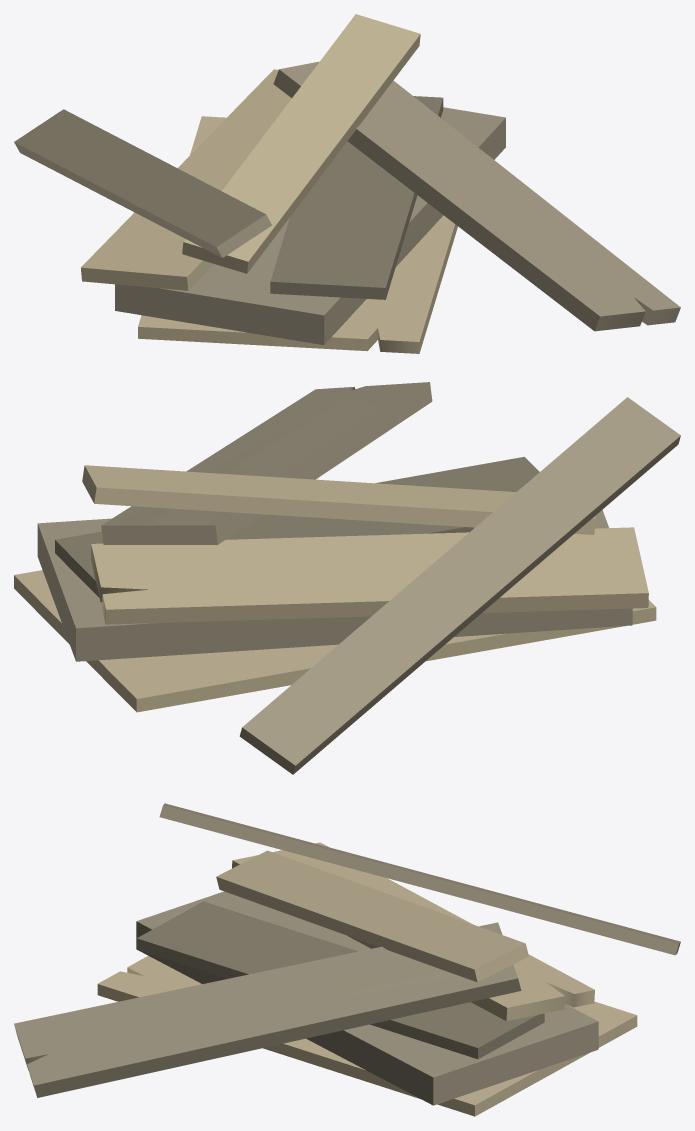
File: Pile_Of_Plywood.fbx
3 renders of one model, top to bottom at view 1: azimuth 30°, elevation 25°; view 2: azimuth 150°, elevation 25°; view 3: azimuth 270°, elevation 25°, orthographic. The views are drawn at different scales.
Visible parts, largest first — view 1: pasted__pCube8; view 2: pasted__pCube8; view 3: pasted__pCube8.
Part boxes in pixels (x1,y1,x2,y2): pasted__pCube8: (14, 14, 680, 353); pasted__pCube8: (14, 382, 680, 774); pasted__pCube8: (14, 803, 680, 1116).
Bounding box in the file's own units: 3.79 × 1.08 × 4.77.
